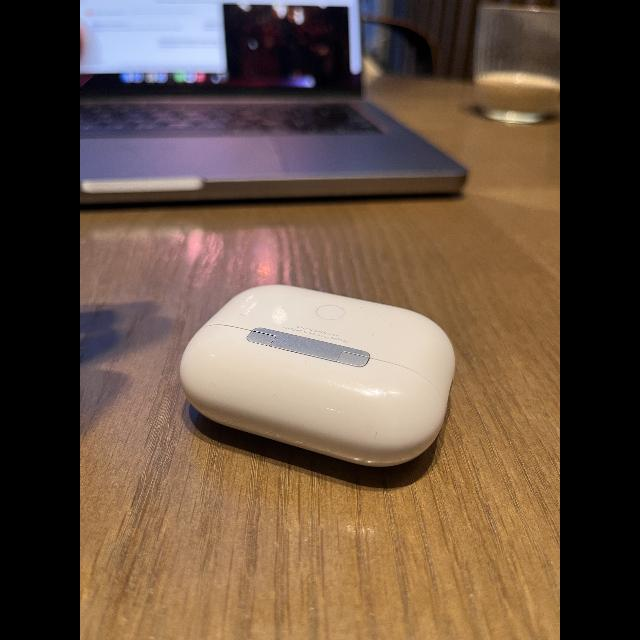AirPods Pro: (178, 279, 460, 489)
